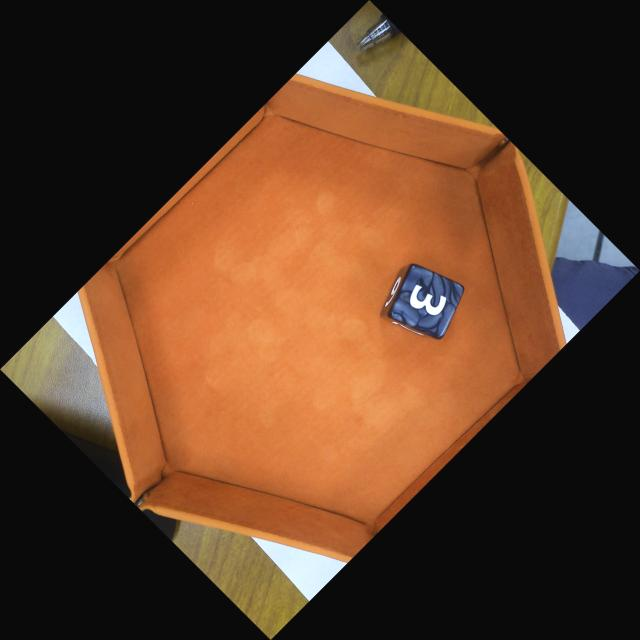dice: (389, 262, 467, 340)
